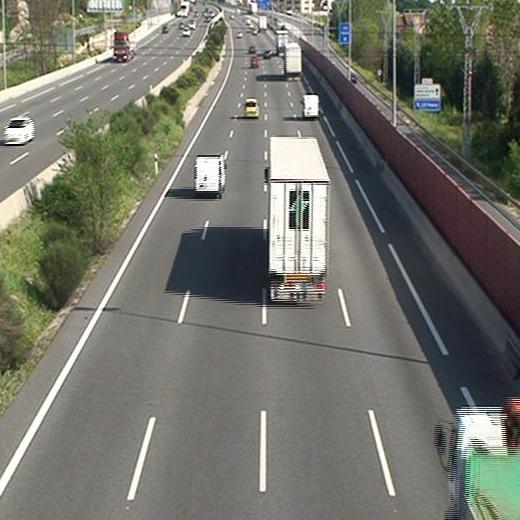car: (243, 100, 258, 117)
truck: (269, 137, 329, 302), (284, 43, 302, 81)
van: (195, 158, 226, 193), (302, 95, 318, 118), (250, 56, 258, 67)
